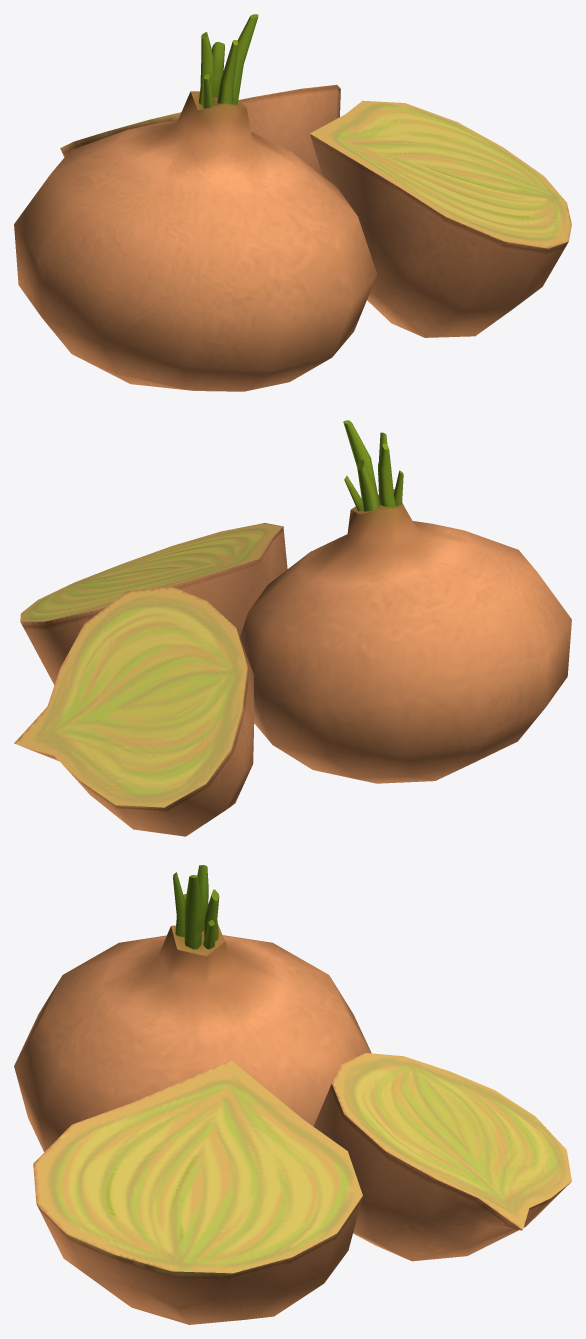
The picture shows the model from 3 angles, top to bottom: view 1: azimuth 30°, elevation 25°; view 2: azimuth 150°, elevation 25°; view 3: azimuth 270°, elevation 25°; orthographic projection. The views are drawn at different scales.
Parts seen in each view (by area): view 1: submesh_0; view 2: submesh_0; view 3: submesh_0.
Boxes of the visible parts, box(x1,y1,x2,y2) form: submesh_0: box(14, 14, 571, 391); submesh_0: box(14, 420, 571, 836); submesh_0: box(14, 865, 571, 1324).
Size of the model in its own units: 0.3054 by 0.1989 by 0.2844.
Materials: 1 (1 with a texture image).
